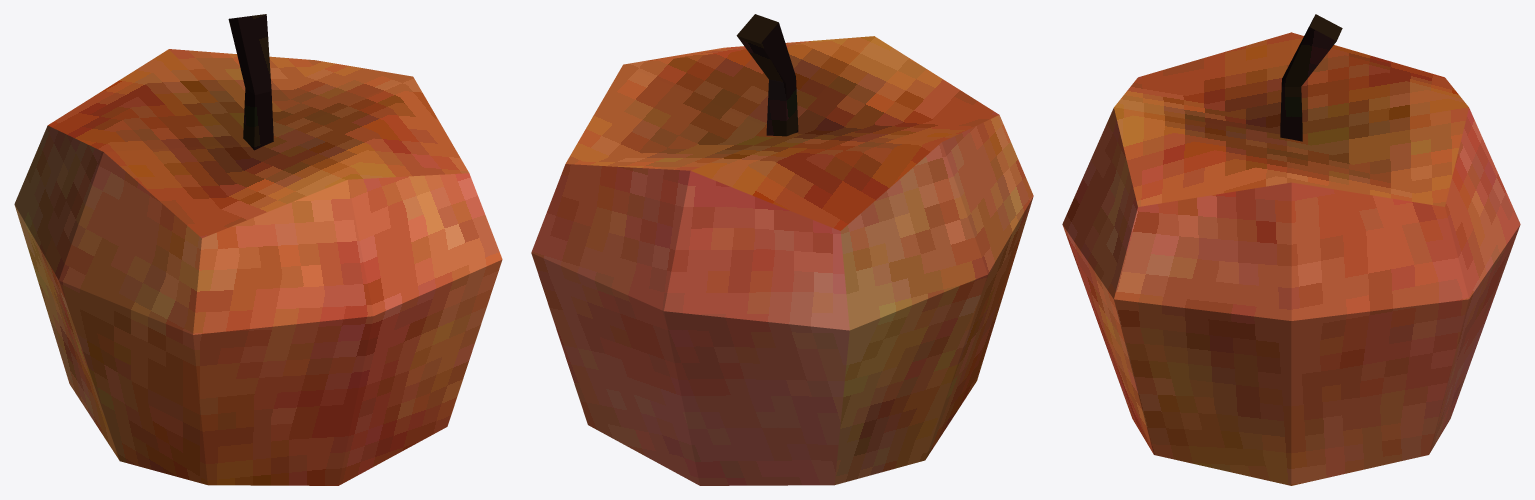
The model's file is apple.glb.
3 views of the same model, side by side, from view 1: azimuth 30°, elevation 25°; view 2: azimuth 150°, elevation 25°; view 3: azimuth 270°, elevation 25° (orthographic). The views are drawn at different scales.
Visible parts, largest first — view 1: apple; view 2: apple; view 3: apple.
Boxes of the visible parts, left/top/right/bottom form: apple: left=14, top=14, right=502, bottom=485; apple: left=531, top=14, right=1033, bottom=485; apple: left=1062, top=14, right=1520, bottom=485.
Size of the model in its own units: 0.1782 by 0.183 by 0.1782.
Materials: 1 (1 with a texture image).
